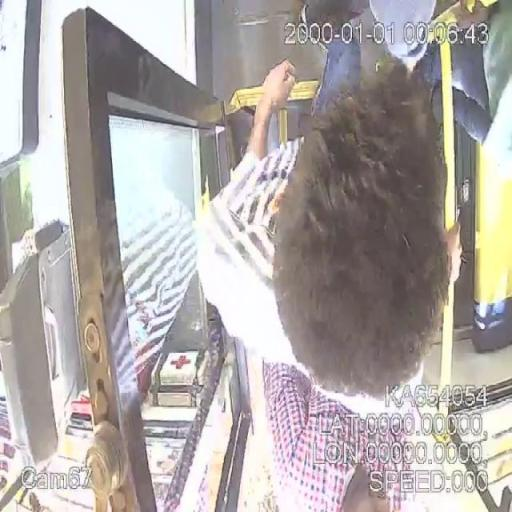persona: (197, 51, 466, 430)
